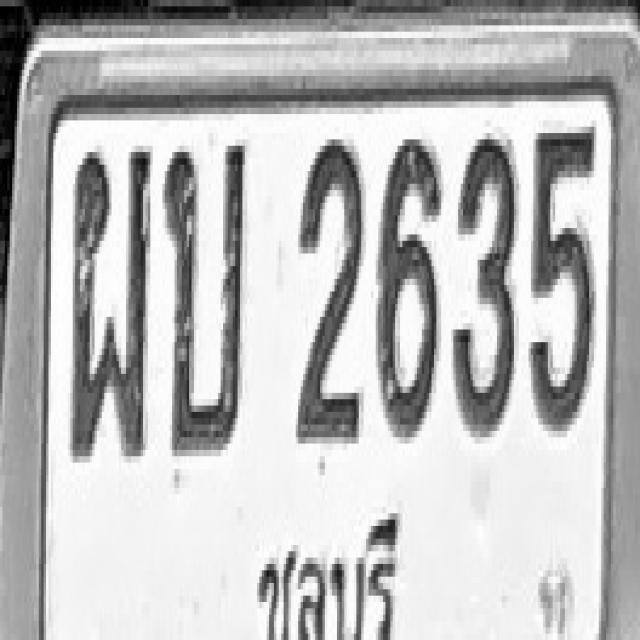2: (296, 133, 364, 444)
3: (451, 133, 516, 437)
35BorBaiMai: (162, 140, 248, 456)
37PhorPhueng: (68, 143, 150, 460)
5: (530, 124, 595, 434)
6: (376, 133, 441, 437)
Chonburi: (255, 500, 403, 640)
